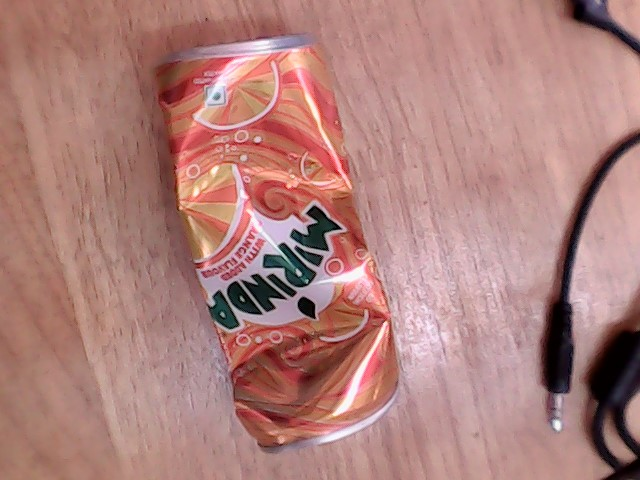Metal: (135, 35, 436, 480)
